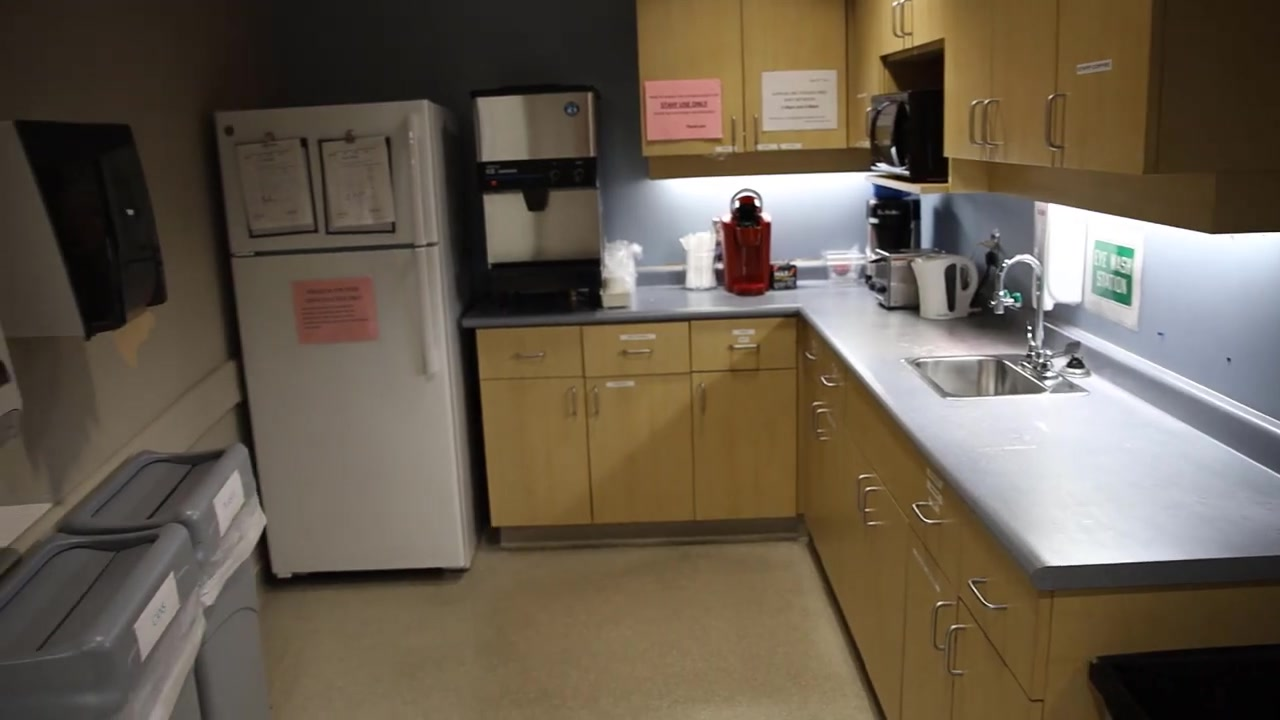cabinet: (641, 1, 1280, 176)
counter: (458, 278, 1280, 720)
countertop: (801, 276, 1280, 592), (459, 279, 802, 328)
dispenser: (1, 118, 168, 340)
faucet: (1027, 334, 1086, 382)
handle: (414, 248, 436, 378), (405, 113, 426, 246), (967, 578, 1008, 610), (1044, 93, 1066, 150), (944, 624, 967, 676), (931, 600, 954, 651), (981, 98, 1000, 145), (861, 486, 882, 527), (857, 473, 876, 514), (969, 98, 985, 145), (911, 502, 943, 525), (814, 408, 830, 443), (811, 401, 826, 434), (899, 1, 913, 36), (891, 1, 904, 38), (864, 108, 872, 139), (516, 351, 546, 359), (570, 387, 578, 415), (592, 386, 600, 414), (699, 383, 706, 415), (622, 348, 653, 355), (820, 374, 836, 387), (753, 113, 759, 144), (729, 344, 760, 350), (731, 114, 736, 146), (804, 352, 816, 361)
sink: (904, 355, 1046, 401)
waste_bin: (57, 443, 275, 720), (1, 522, 202, 720)
